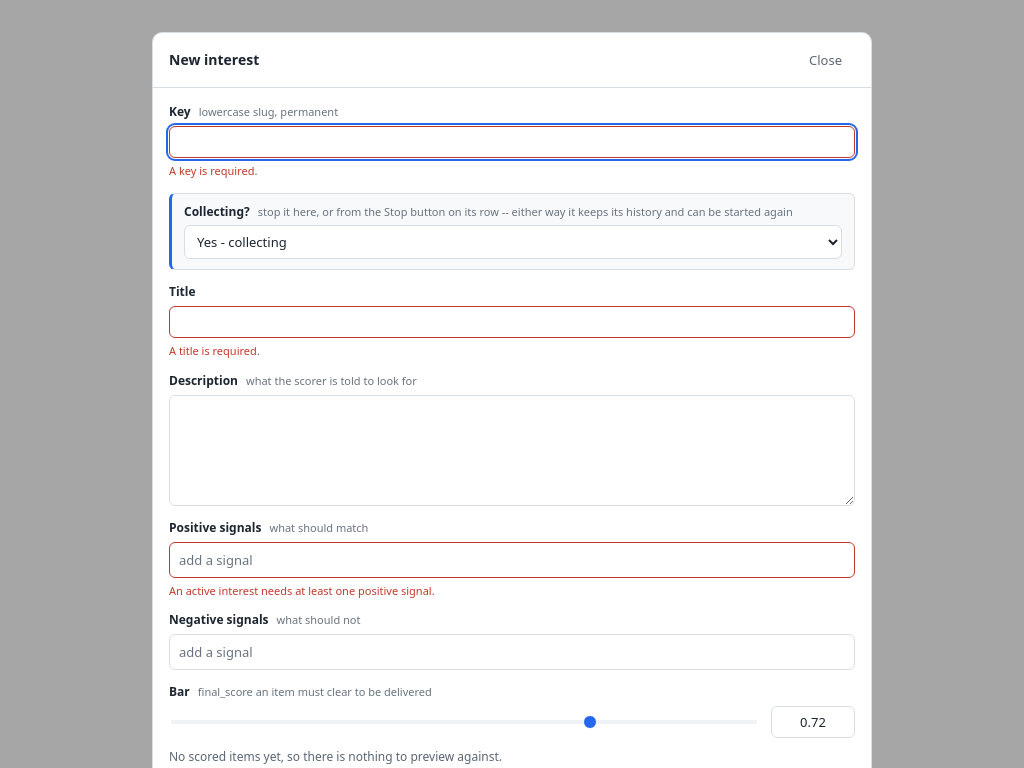
Test: InterestEditor › validates a new key against the reserved prefix and existing keys
Step 1. Type "derived:steam" into the field labelled "Key lowercase slug, permanent" → (512, 142), box left=169, top=126, right=855, bottom=158
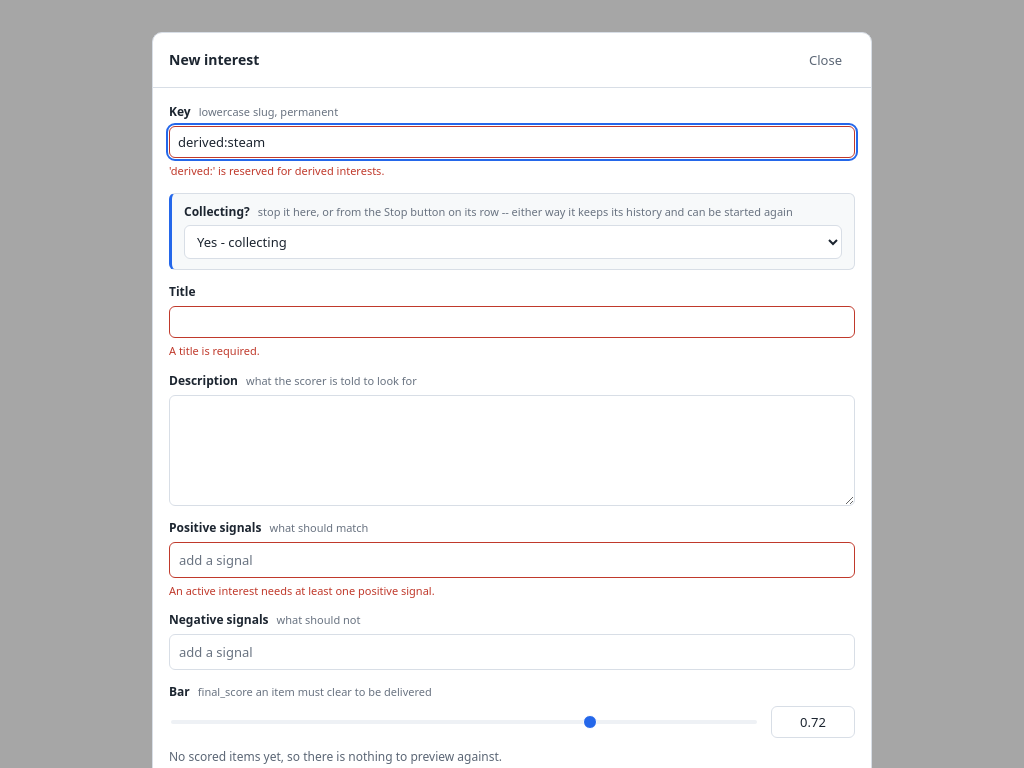
Check: the text "'derived:' is reserved for derived interests." is shown, box left=169, top=163, right=384, bottom=178
Step 2. Replace the text in the field labelled "Key lowercase slug, permanent" with "nbis-nebius" → (512, 142), box left=169, top=126, right=855, bottom=158
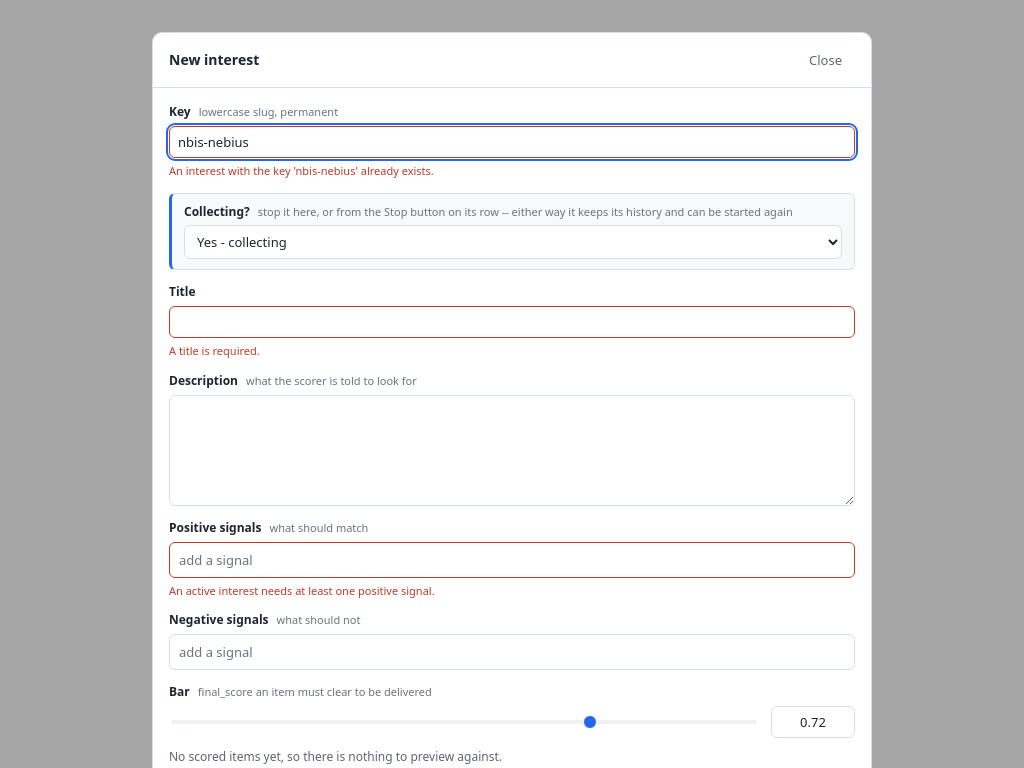
Check: the text "An interest with the key 'nbis-nebius' already exists." is shown, box left=169, top=163, right=434, bottom=178
